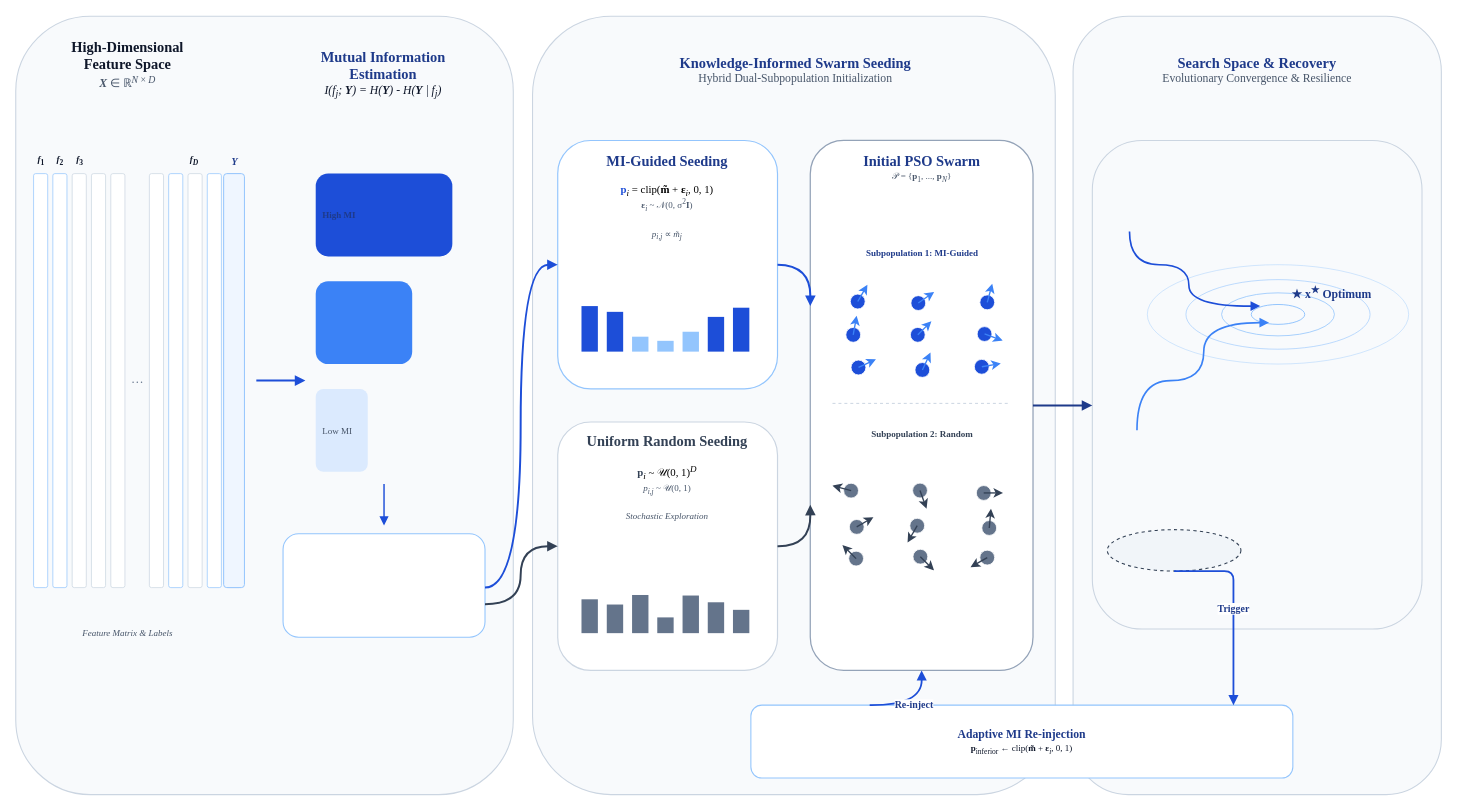
The diagram is 1458 pixels wide and 810 high, and some of its shapes have lost their labels. The shapes that lost their labels are listed below. From the top down, each one's centre as x and y in pixels, then its label:
the point at 363,322: Medium MI
the point at 1173,550: Stagnation Detected
the point at 383,585: MI-Derived Prior Vector m̃ = (I - I min ) / ( I max - I min ) ∈ [0, 1] D
